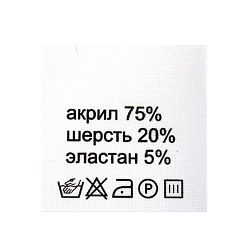ER_dry_clean_chemical: (137, 176, 160, 199)
ER_hand_wash: (56, 176, 84, 201)
ER_iron_low_temp: (111, 176, 136, 200)
ER_no_bleach: (85, 176, 108, 200)
